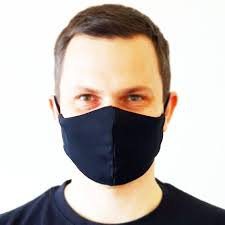mask: (28, 5, 184, 188)
